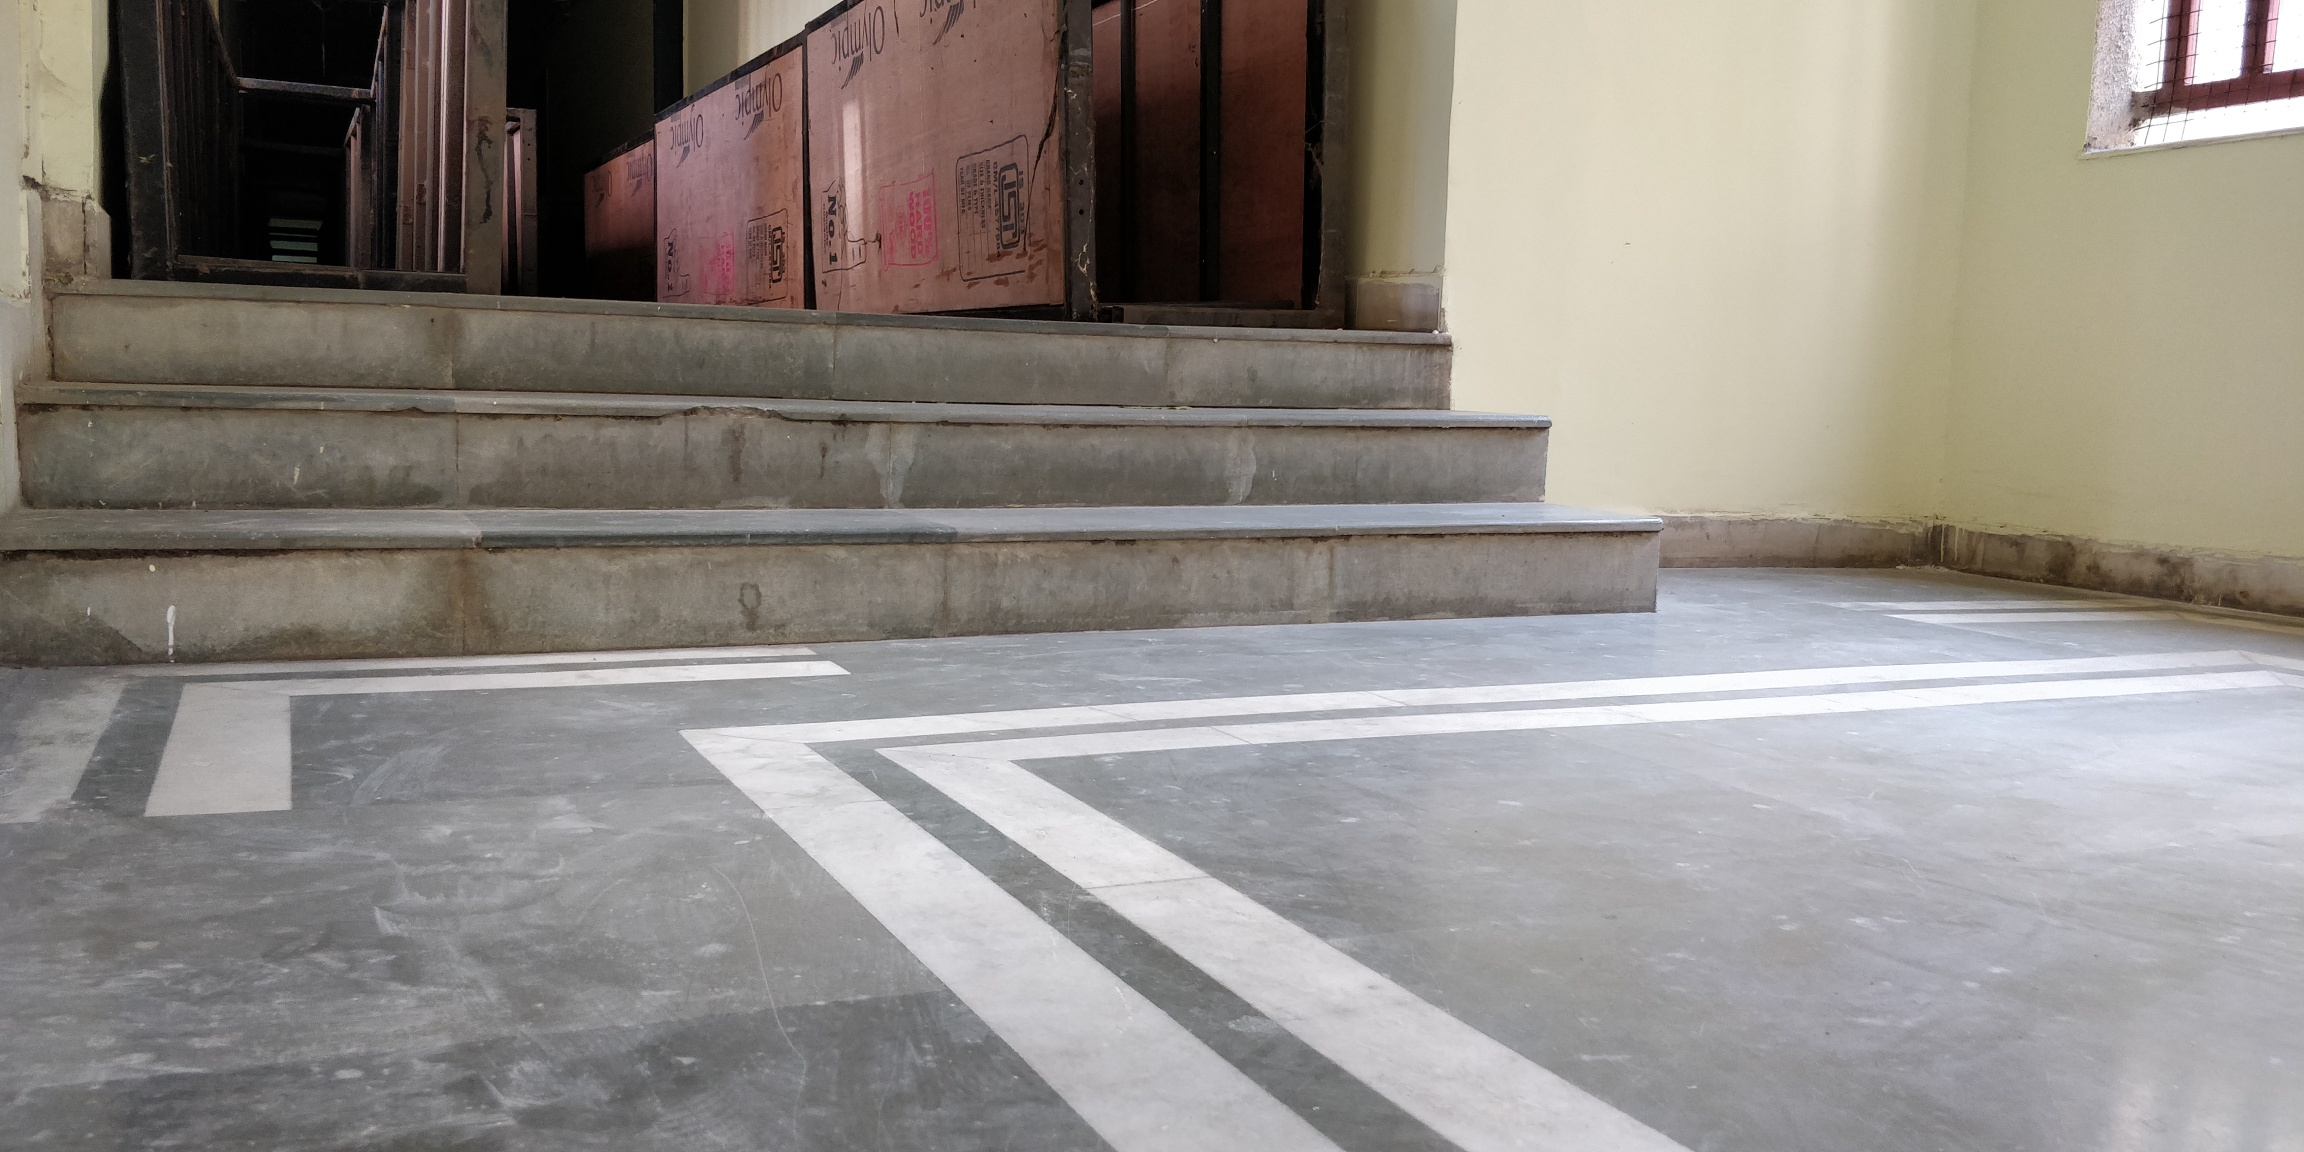stairs_up: (10, 270, 1669, 645)
